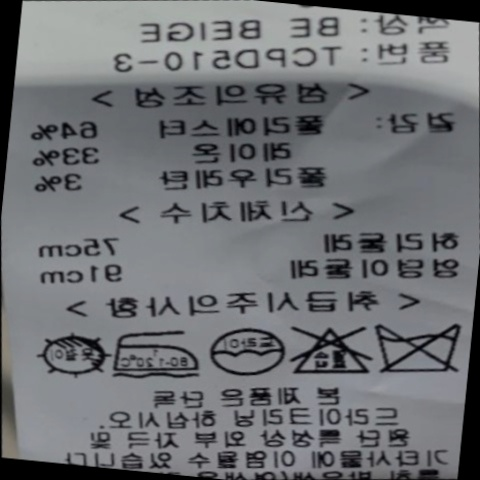DN_wash: (363, 312, 469, 391)
dry_clean: (203, 320, 288, 388)
iron_low: (105, 315, 202, 388)
line_dry_in_shade: (29, 317, 110, 389)
non_chlorine_bleach: (279, 312, 374, 389)
